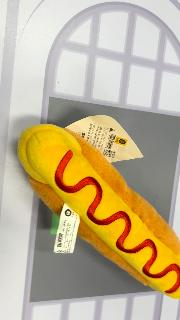hotdog: (17, 123, 179, 300)
